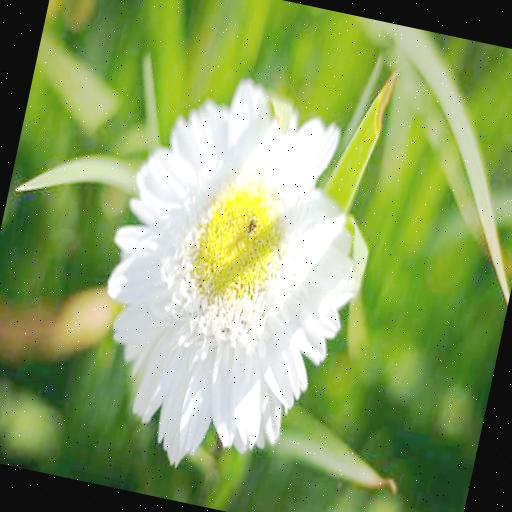daisy: (83, 82, 380, 468)
